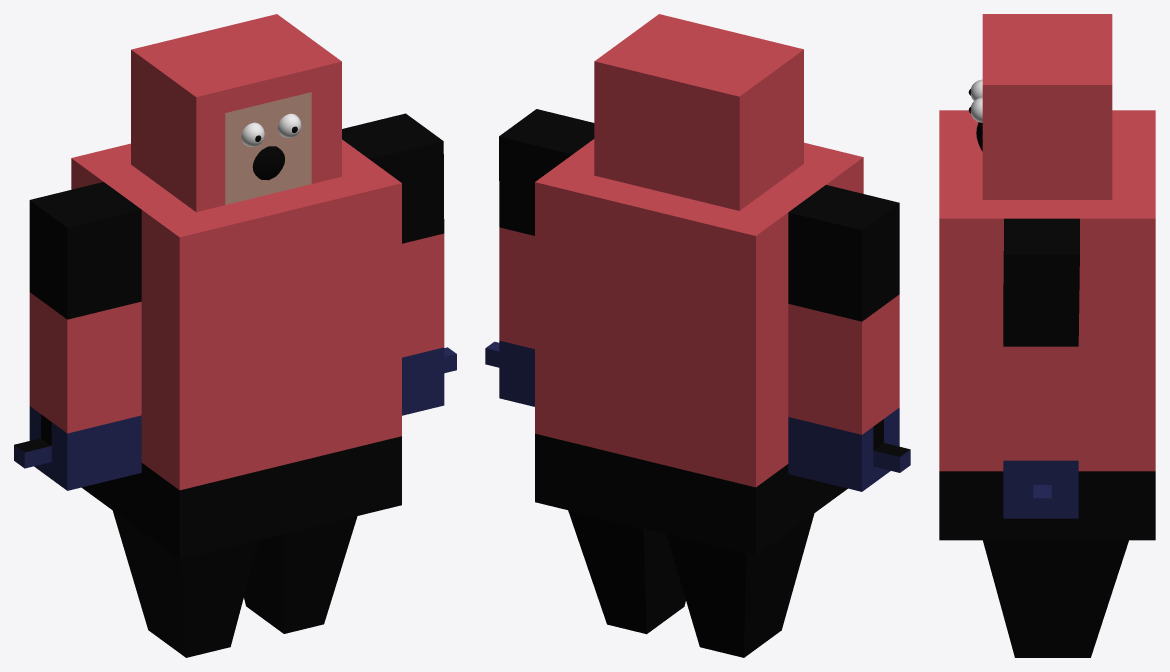
File: mountaineer.fbx
The picture shows the model from 3 angles, left to right: view 1: azimuth 30°, elevation 25°; view 2: azimuth 150°, elevation 25°; view 3: azimuth 270°, elevation 25°; orthographic projection.
Parts seen in each view (by area): view 1: pCube1, pSphere5; view 2: pCube1; view 3: pCube1.
Part boxes in pixels (x1,y1,x2,y2): pCube1: (14,14,456,657); pSphere5: (252,146,284,180); pCube1: (485,14,910,657); pCube1: (939,14,1155,657).
Size of the model in its own units: 6.49 by 8.38 by 2.87.
